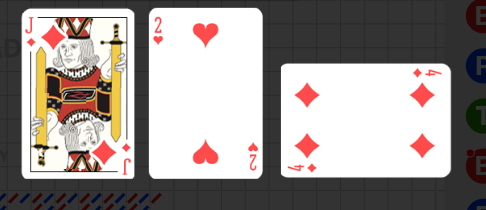2H: (246, 140, 259, 172), (152, 16, 165, 47)
4D: (411, 67, 442, 79)
